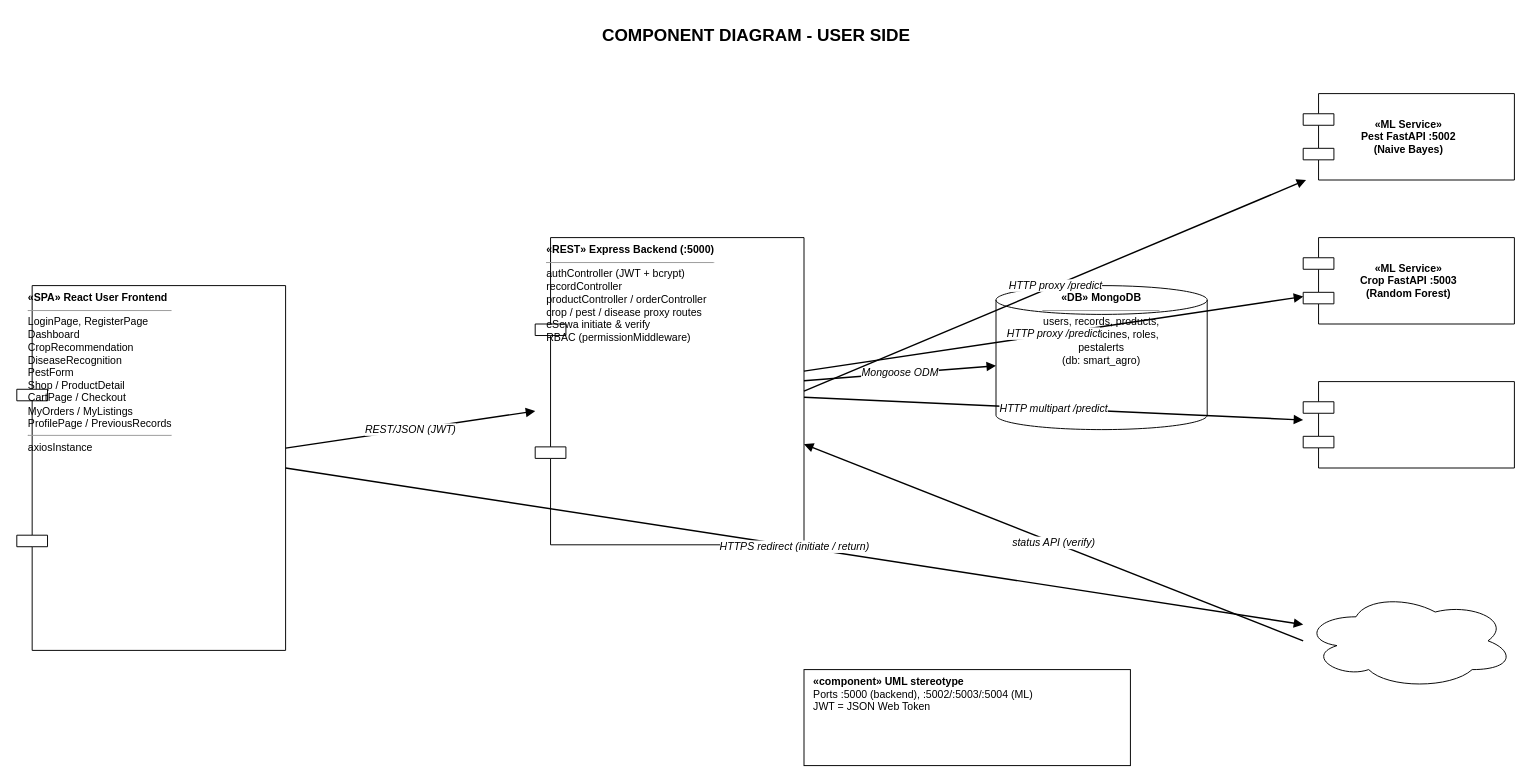
The diagram is 1531 pixels wide and 782 high, and some of its shapes have lost their labels. Each missing label, with the centre of its shape:
«External» eSewa Gateway payment page + status API (sandbox): point 1408,640
«ML Service» Disease FastAPI :5004 (EfficientNetB4 CNN): point 1408,424
